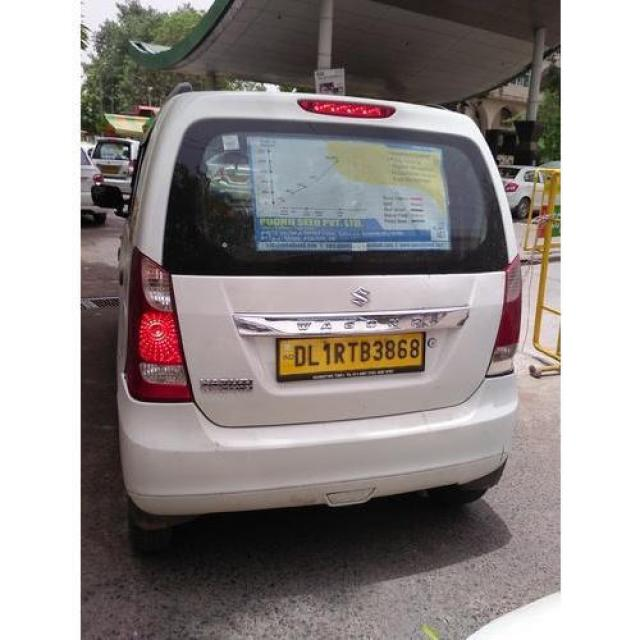Number-Plate: (282, 333, 423, 371)
